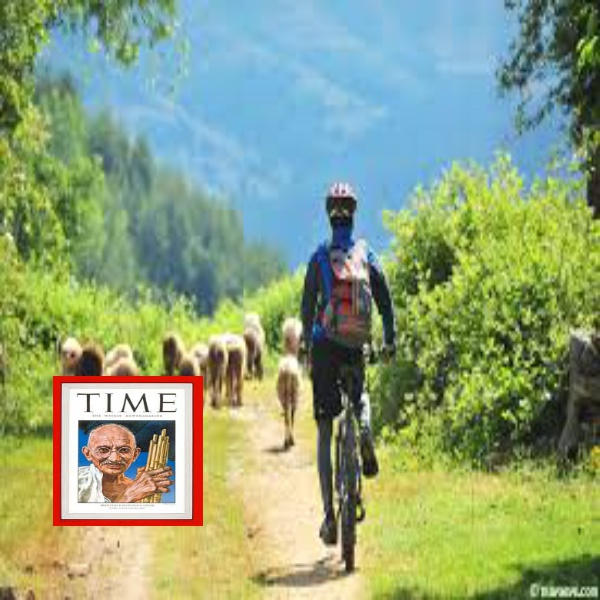time_cover: (39, 367, 211, 535)
